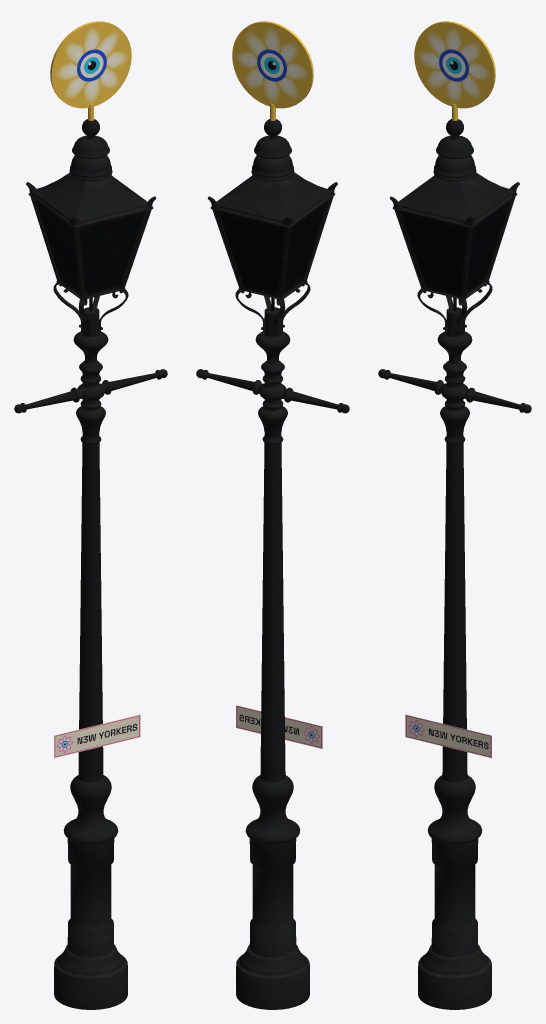
Rendered from nyb_moon_lamp.glb.
The picture shows the model from 3 angles, left to right: view 1: azimuth 30°, elevation 25°; view 2: azimuth 150°, elevation 25°; view 3: azimuth 330°, elevation 25°; orthographic projection.
Parts seen in each view (by area): view 1: street_lamp_01, add_eyeflower_gold.png, Cylinder, stk_label_n3w.png; view 2: street_lamp_01, add_eyeflower_gold.png, Cylinder, stk_label_n3w.png; view 3: street_lamp_01, add_eyeflower_gold.png, Cylinder, stk_label_n3w.png.
Part boxes in pixels (x1,y1,x2,y2): street_lamp_01: (14, 119, 167, 1009); add_eyeflower_gold.png: (54, 26, 129, 104); Cylinder: (50, 21, 131, 108); stk_label_n3w.png: (54, 714, 140, 758); street_lamp_01: (196, 119, 349, 1009); add_eyeflower_gold.png: (234, 26, 309, 104); Cylinder: (232, 21, 313, 108); stk_label_n3w.png: (236, 705, 322, 748); street_lamp_01: (378, 119, 531, 1009); add_eyeflower_gold.png: (416, 26, 491, 104); Cylinder: (414, 21, 495, 108); stk_label_n3w.png: (405, 714, 491, 758).
Size of the model in its own units: 0.7043 by 4.3 by 0.3865.
Materials: 7 (5 with a texture image).
